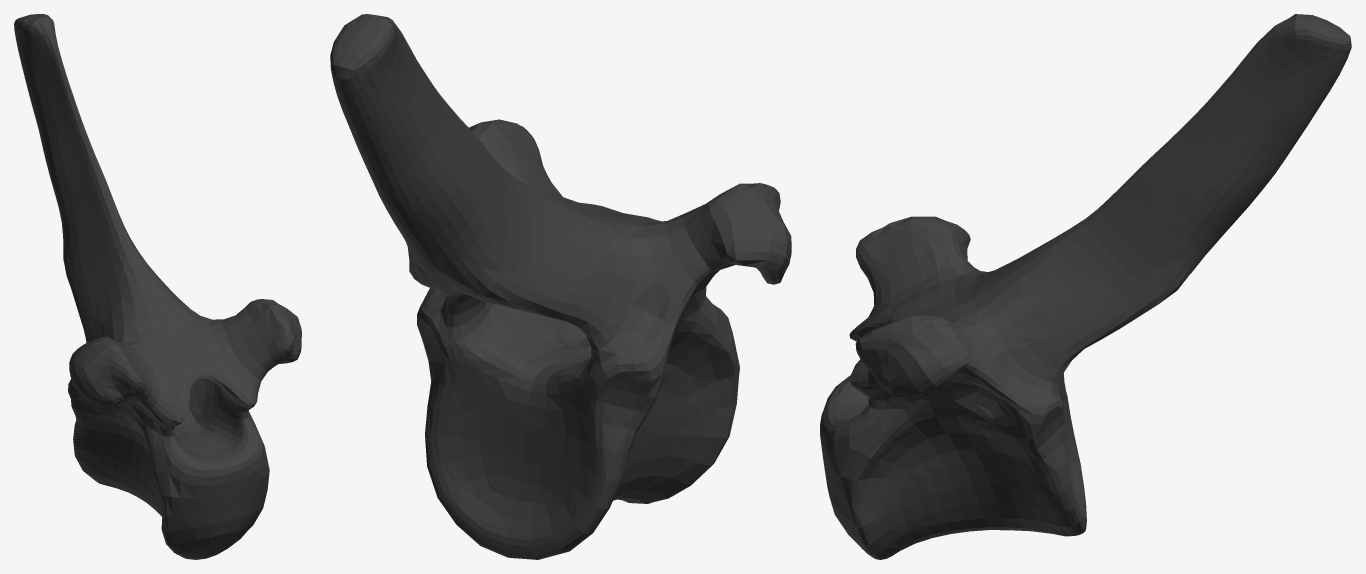
3 views of the same model, side by side, from view 1: azimuth 30°, elevation 25°; view 2: azimuth 150°, elevation 25°; view 3: azimuth 270°, elevation 25° (orthographic). The views are drawn at different scales.
Visible parts, largest first — view 1: b_T11_LO; view 2: b_T11_LO; view 3: b_T11_LO.
Boxes of the visible parts, x1,y1,x2,y2 form: b_T11_LO: (14, 14, 301, 559); b_T11_LO: (330, 14, 791, 559); b_T11_LO: (820, 14, 1351, 559).
Size of the model in its own units: 0.000826 by 0.00148 by 0.00132.
Materials: 1 (1 with a texture image).
